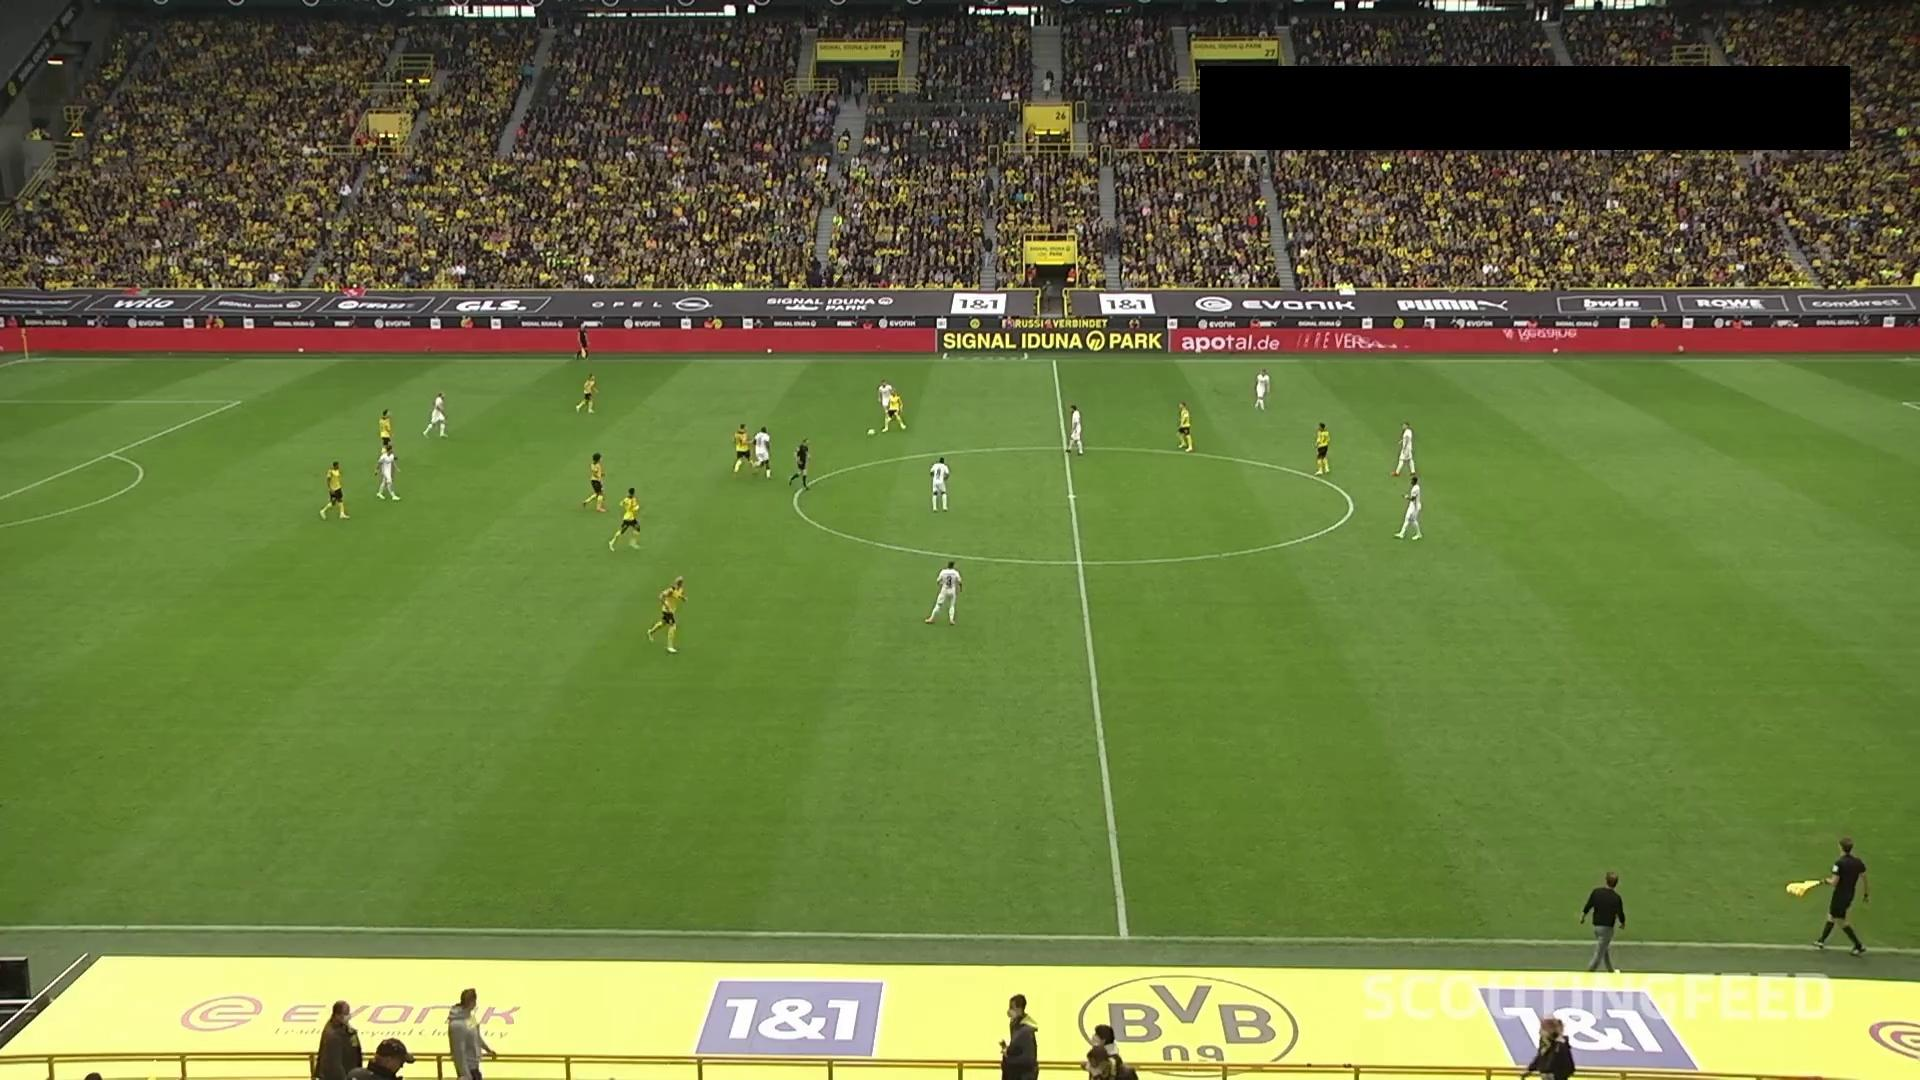Location-of-ball: (864, 419, 889, 444)
